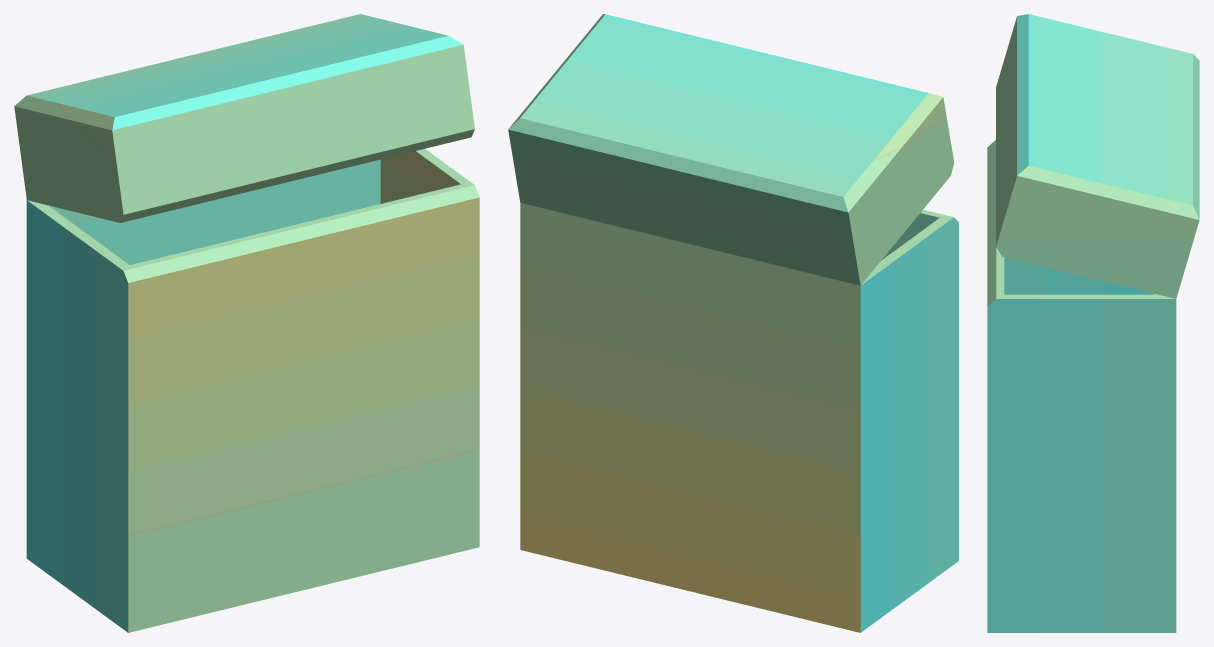
The model's file is Cookie.fbx.
3 views of the same model, side by side, from view 1: azimuth 30°, elevation 25°; view 2: azimuth 150°, elevation 25°; view 3: azimuth 270°, elevation 25° (orthographic). The views are drawn at different scales.
Visible parts, largest first — view 1: pCube3; view 2: pCube3; view 3: pCube3.
Part boxes in pixels (box(x1,y1,x2,y2)): pCube3: box(14, 14, 479, 632); pCube3: box(508, 14, 958, 632); pCube3: box(987, 14, 1199, 632).
Size of the model in its own units: 80 by 108 by 44.94.
1 material, 1 textured.
